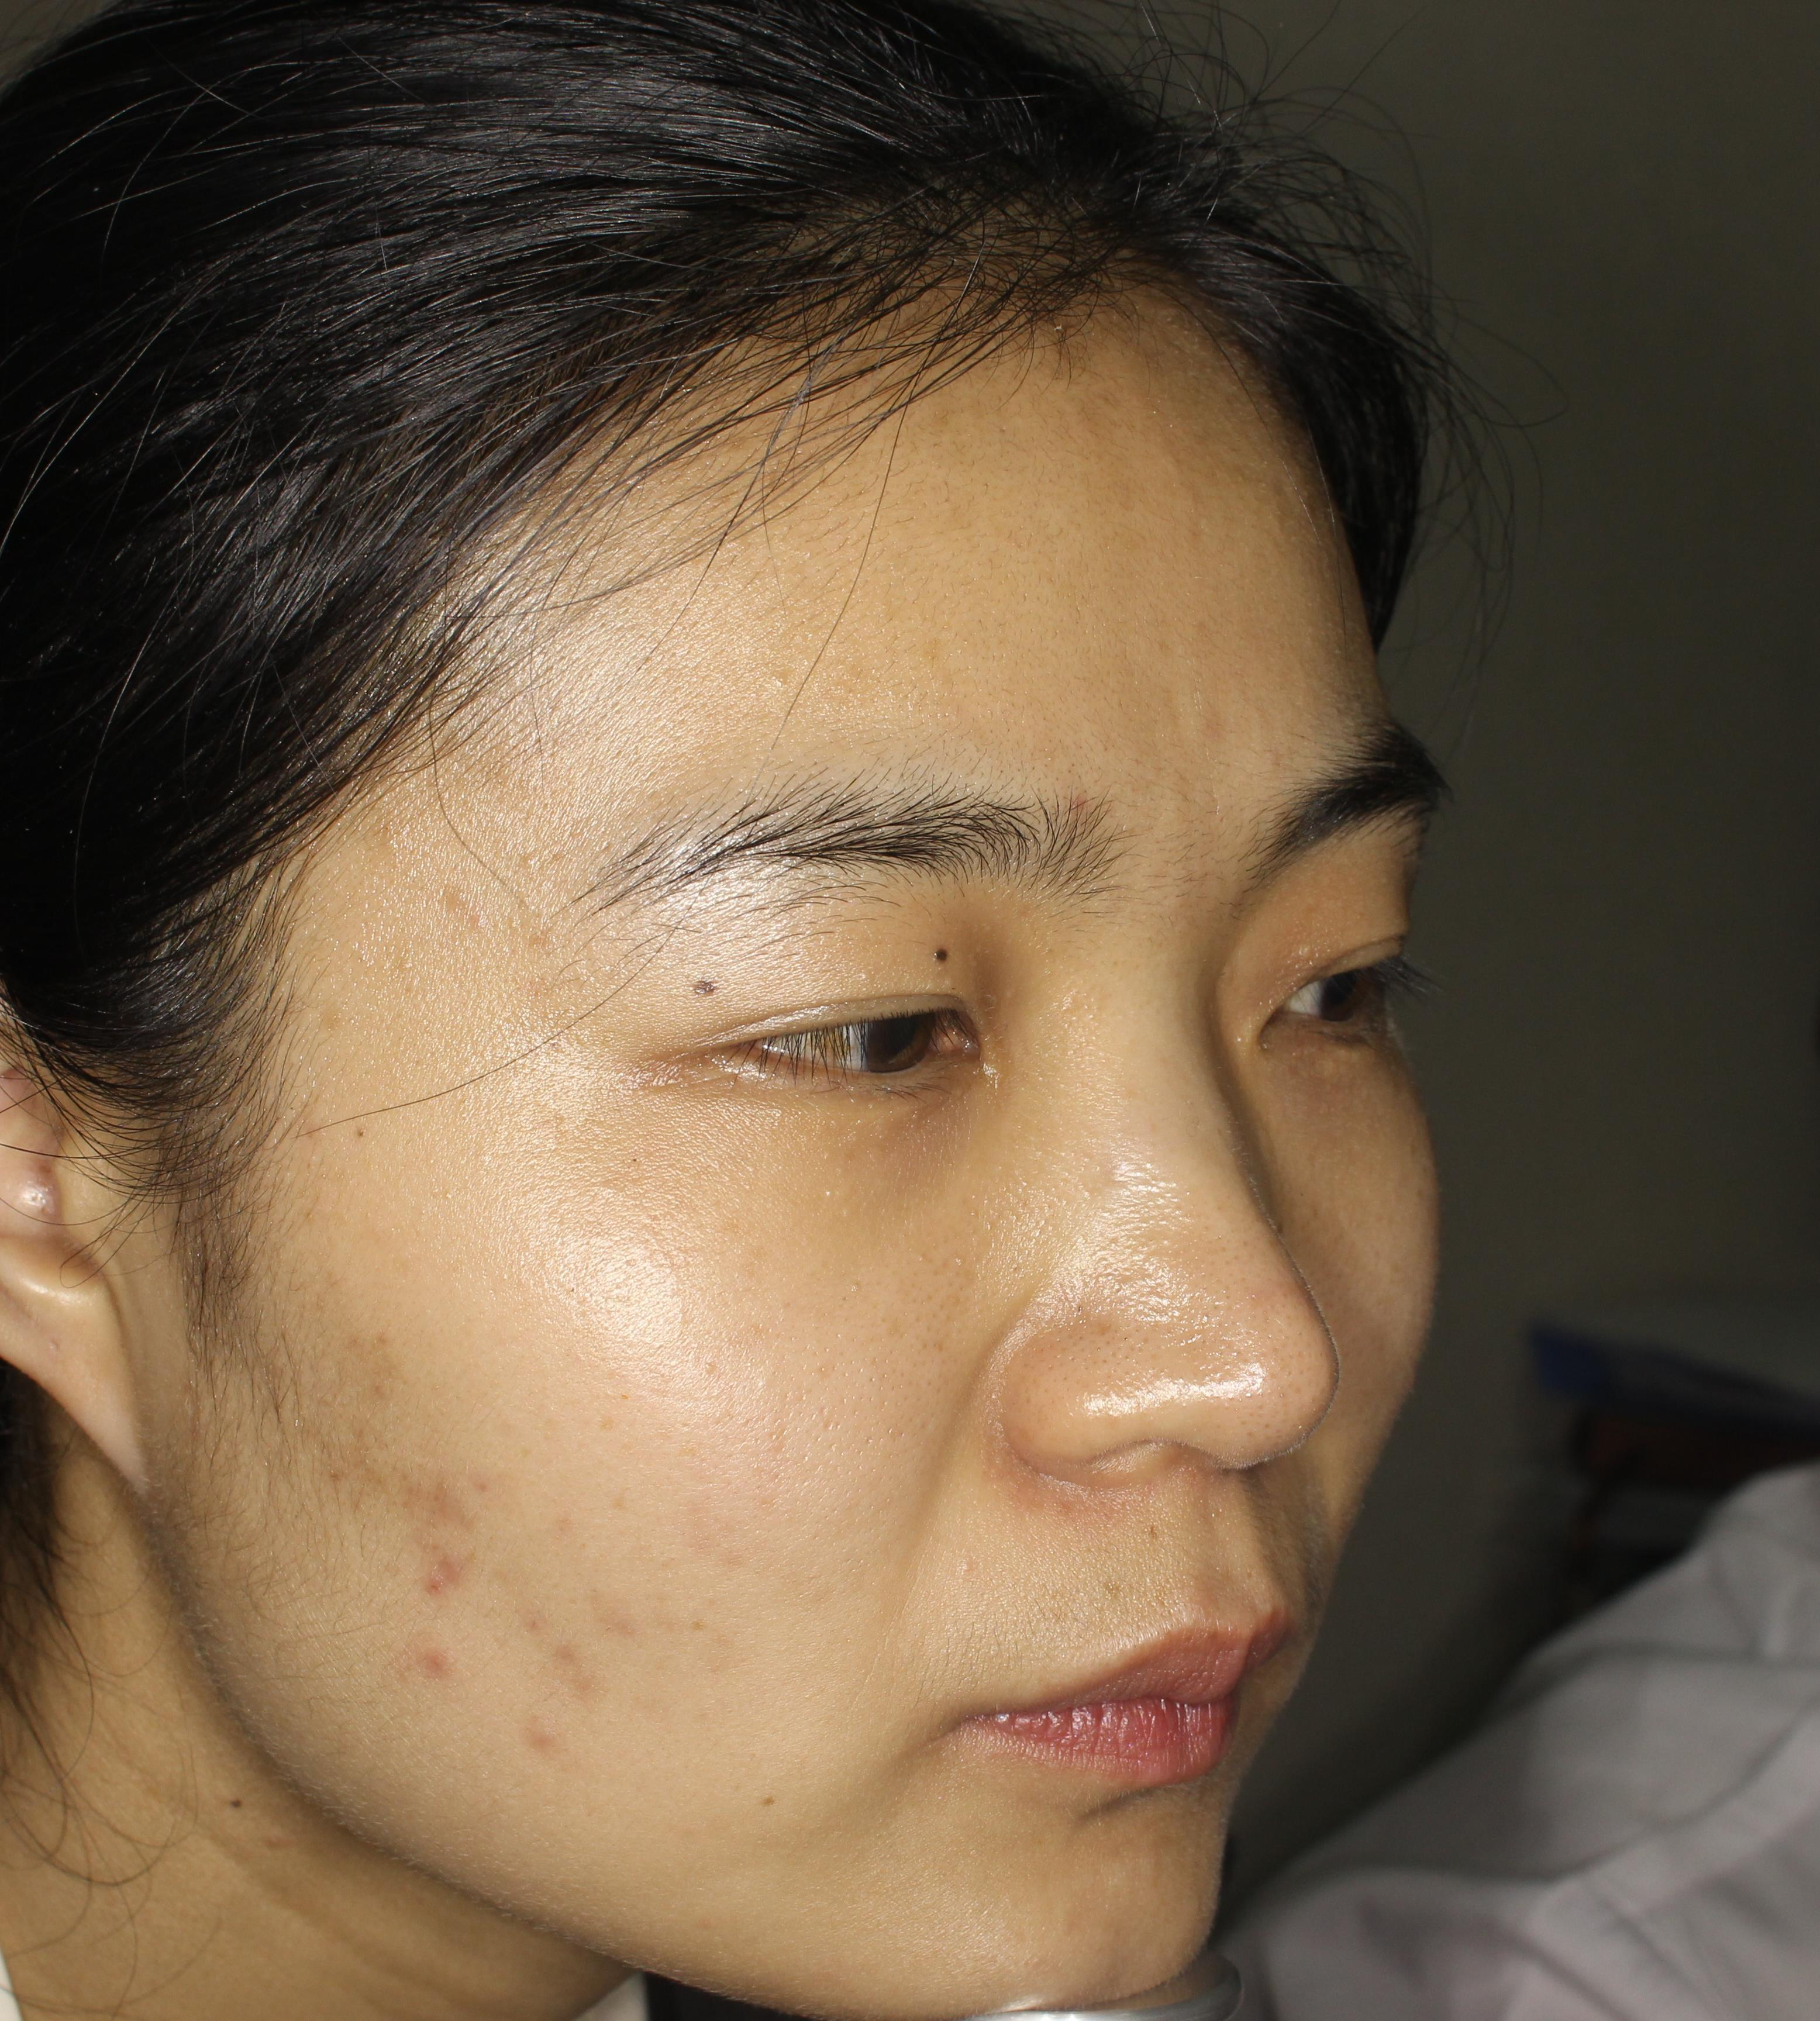fore: (409, 1447, 494, 1536), (381, 1549, 490, 1617), (534, 1638, 615, 1719), (381, 1629, 453, 1693)
